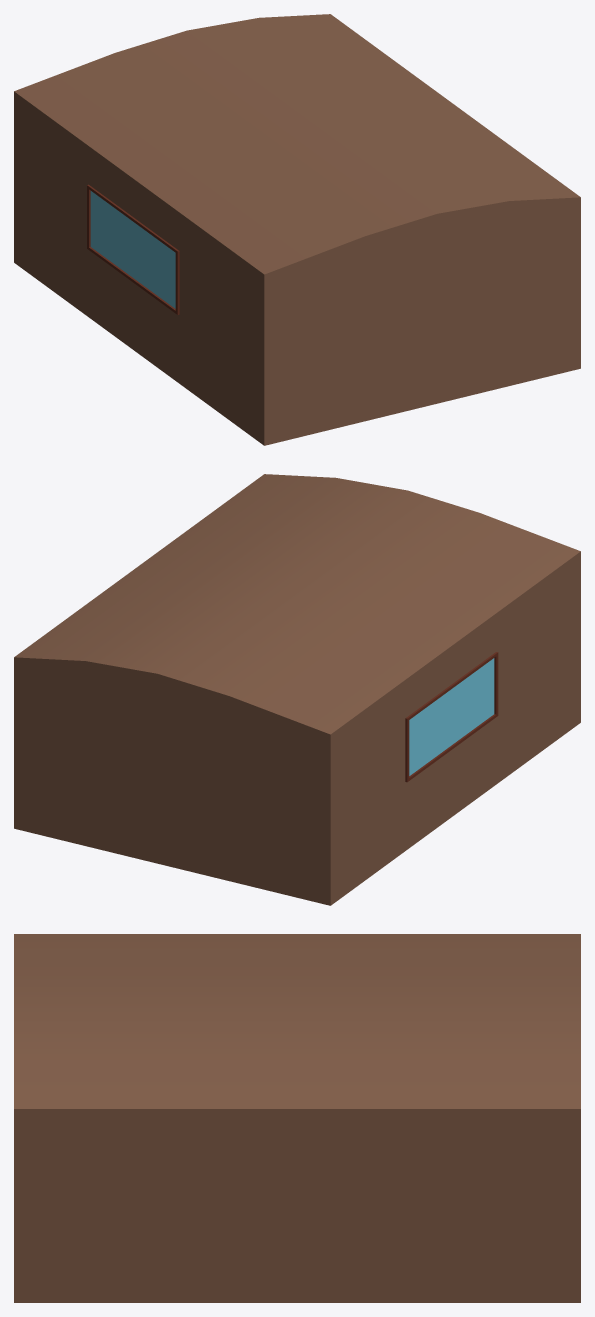
File: Tables&Chair&Vagon_New 1.fbx
3 views of the same model, one above another, from view 1: azimuth 30°, elevation 25°; view 2: azimuth 150°, elevation 25°; view 3: azimuth 270°, elevation 25° (orthographic). The views are drawn at different scales.
Parts seen in each view (by area): view 1: Vagon; view 2: Vagon; view 3: Vagon.
Boxes of the visible parts, box(x1,y1,x2,y2) form: Vagon: box(14, 14, 580, 445); Vagon: box(14, 474, 580, 905); Vagon: box(14, 934, 580, 1302).
Bounding box in the file's own units: 412 × 235 × 562.
